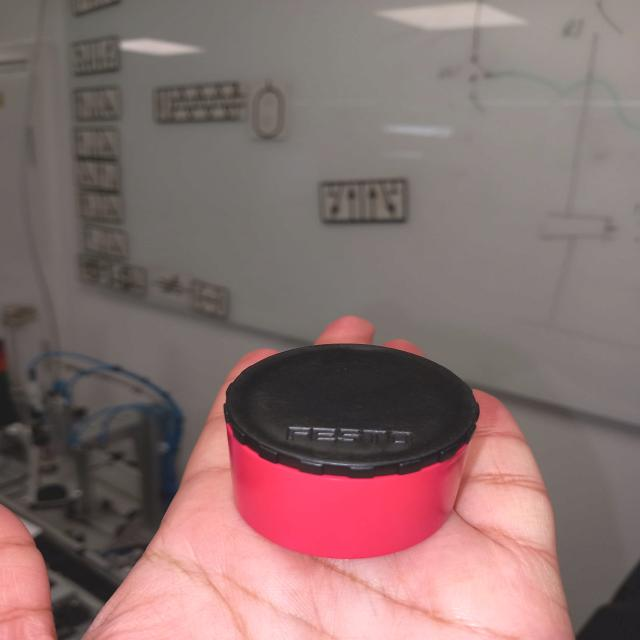Workpiece: (208, 344, 502, 564)
